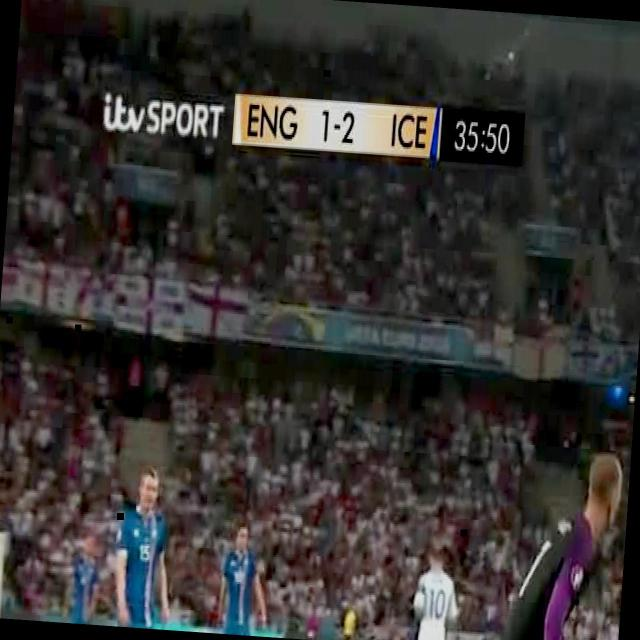player-white: (459, 443, 631, 640), (109, 462, 179, 630), (216, 520, 270, 636), (411, 535, 463, 640), (63, 533, 101, 625), (339, 600, 359, 640)
